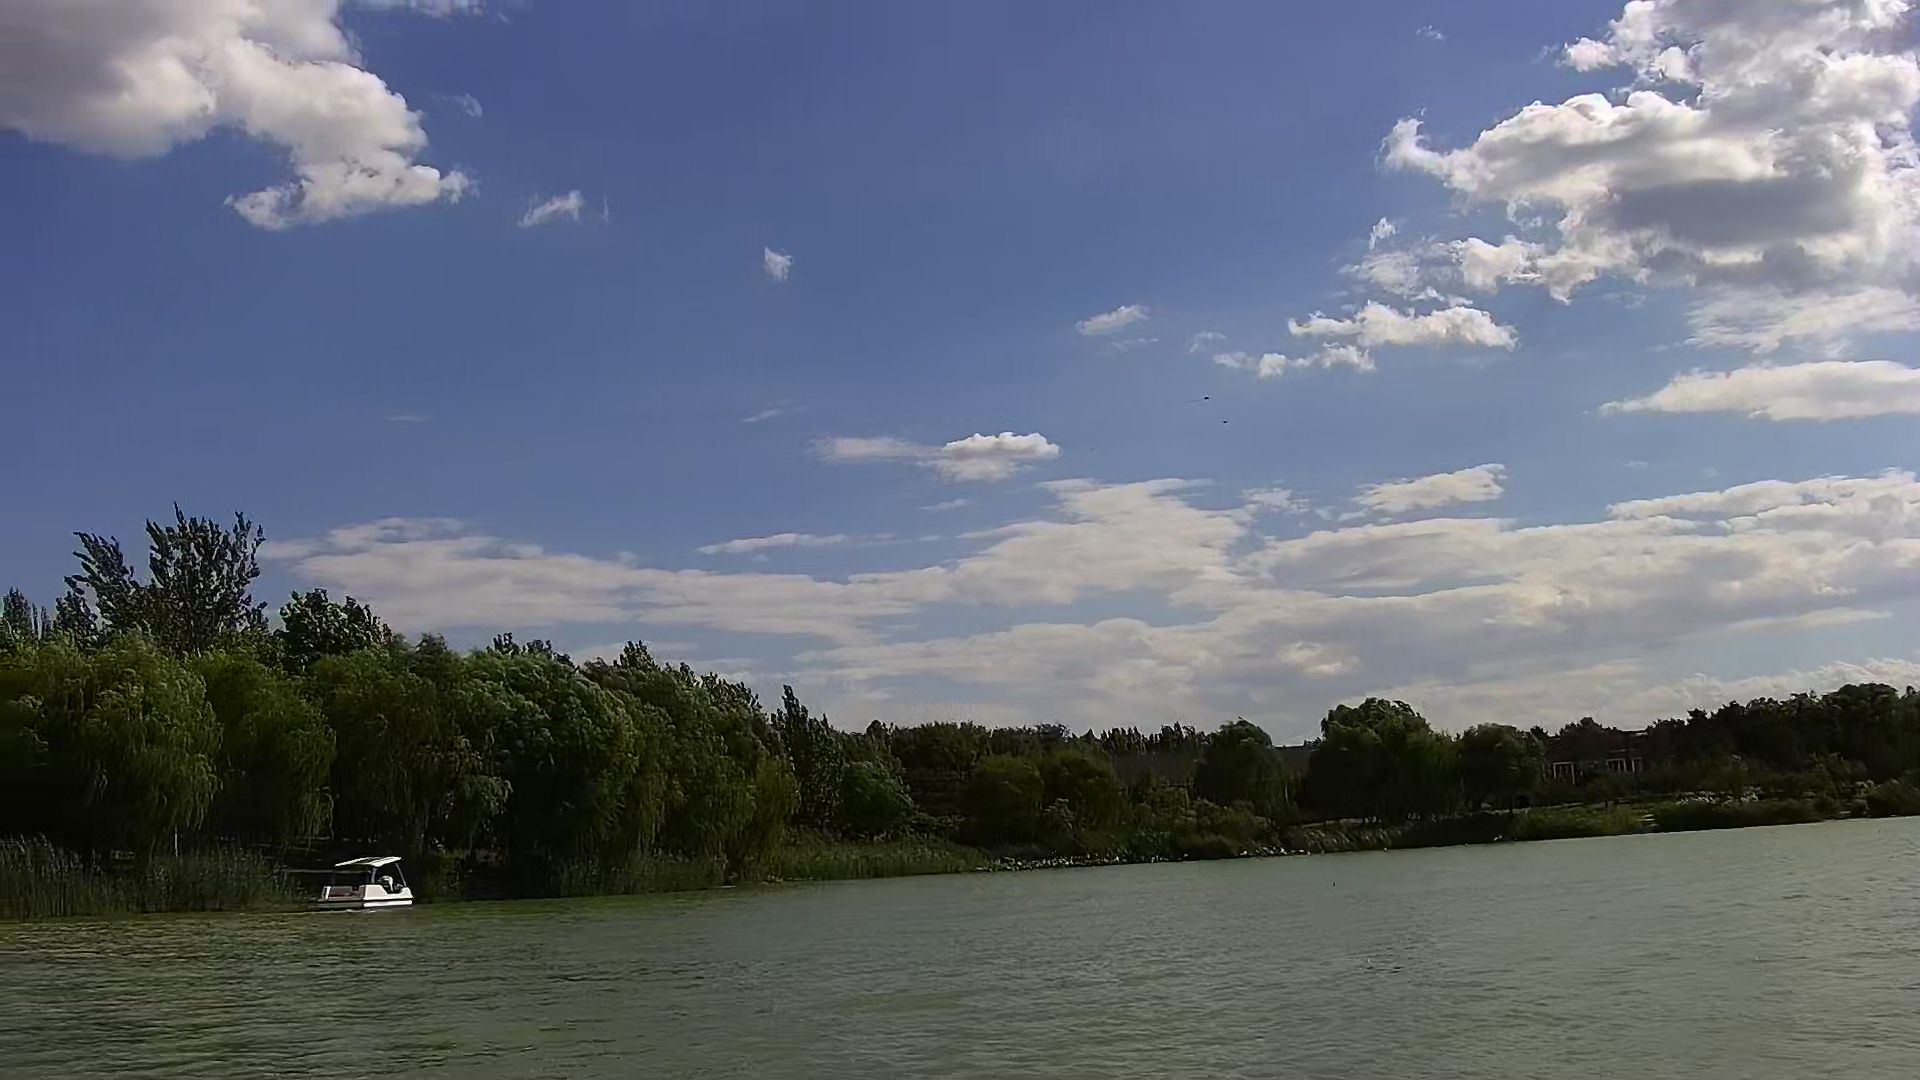boat: (318, 853, 423, 913)
